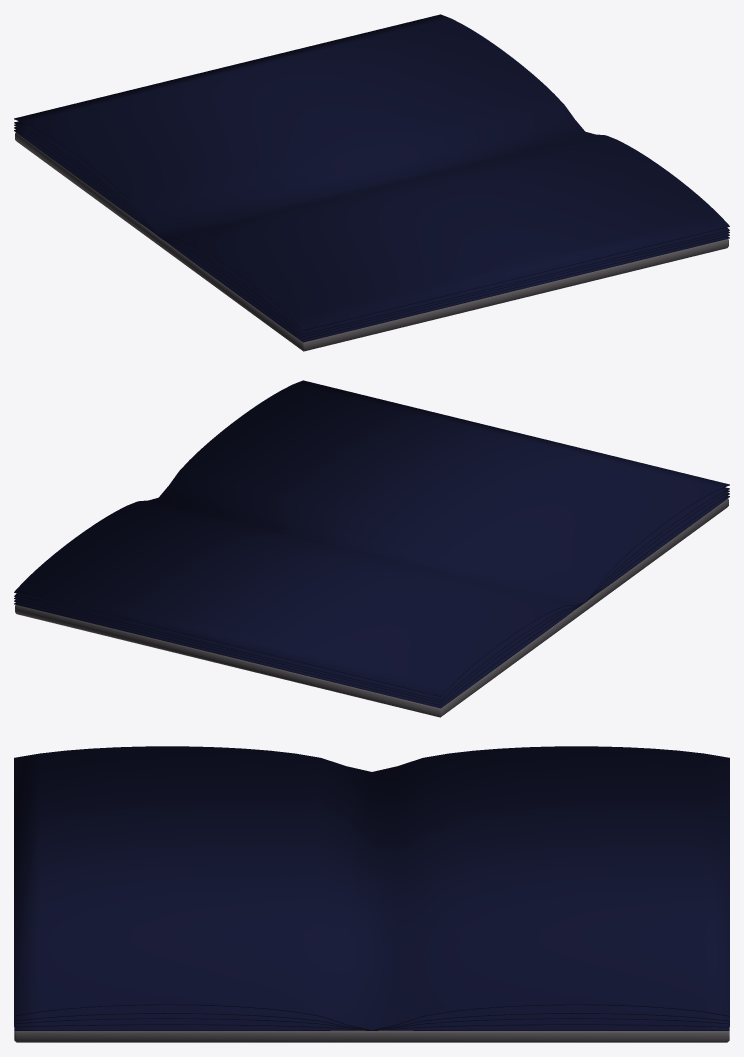
The model's file is Book 1.fbx.
The picture shows the model from 3 angles, top to bottom: view 1: azimuth 30°, elevation 25°; view 2: azimuth 150°, elevation 25°; view 3: azimuth 270°, elevation 25°; orthographic projection. The views are drawn at different scales.
Parts seen in each view (by area): view 1: Plane.005; view 2: Plane.005; view 3: Plane.005.
Part boxes in pixels (x1,y1,x2,y2): Plane.005: [14, 14, 729, 351]; Plane.005: [14, 380, 729, 717]; Plane.005: [14, 746, 729, 1042].
Size of the model in its own units: 170 by 12.2 by 200.
